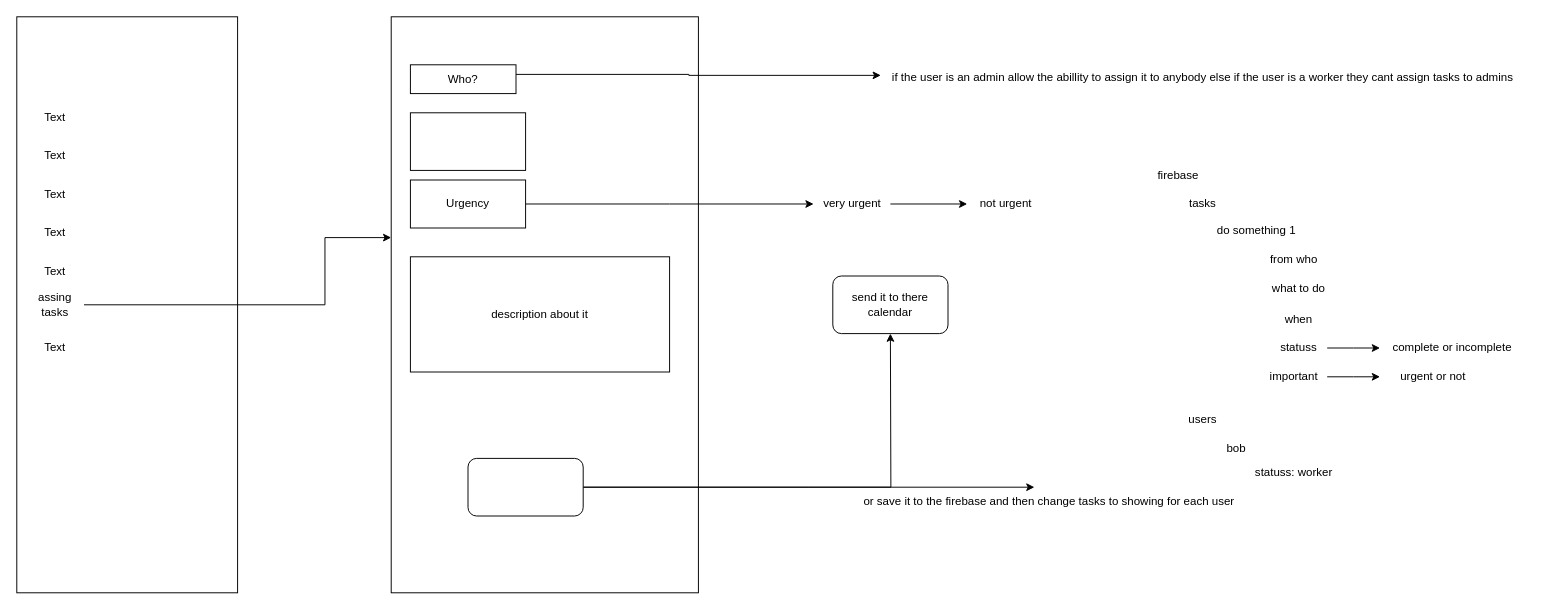
This 1541x610 diagram has some shape labels left out. The centre of each missing label's shape, as x and y in pixels:
"date picker when?" belongs at point (467, 141).
"send it to them?" belongs at point (525, 486).
